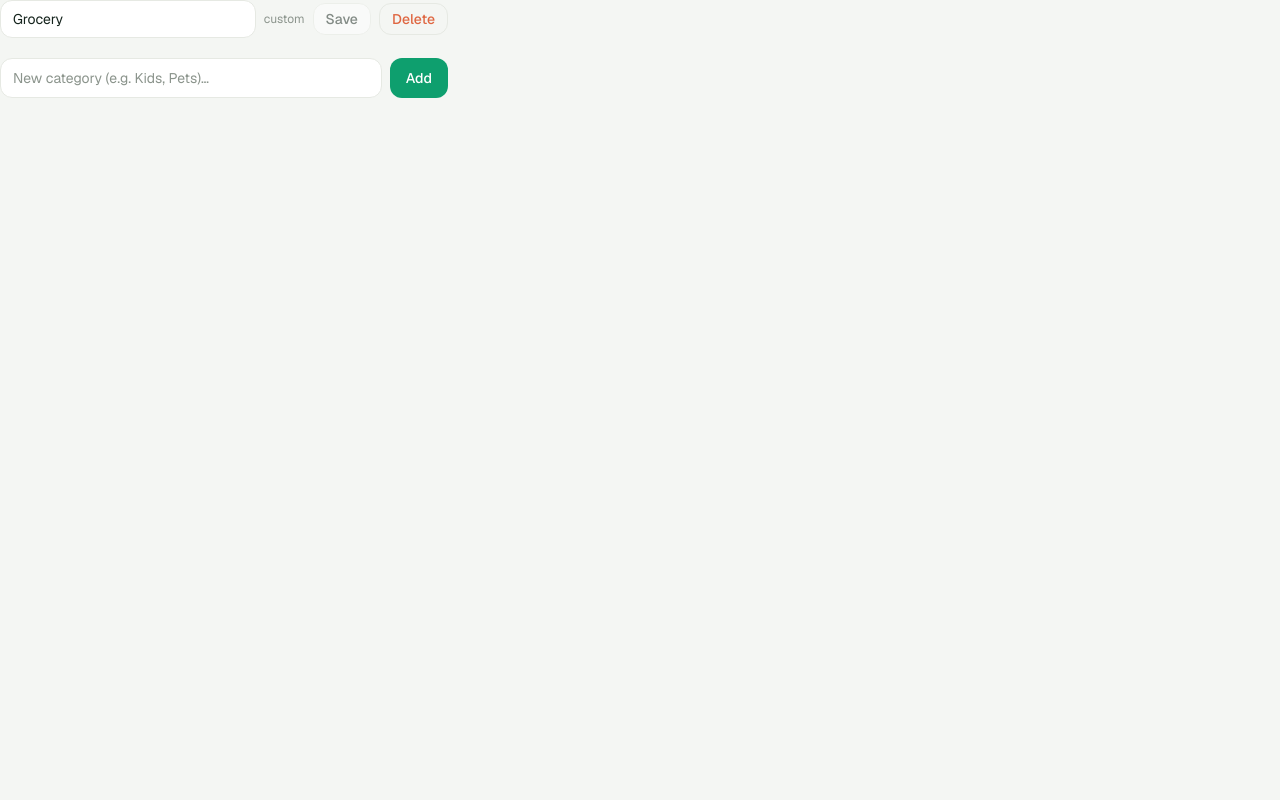
Test: CategoryManager delete dialog › names the rules a delete removes
This screenshot has width=1280, height=800.
Click the button "Delete".
click(413, 19)  # box [379, 3, 448, 35]
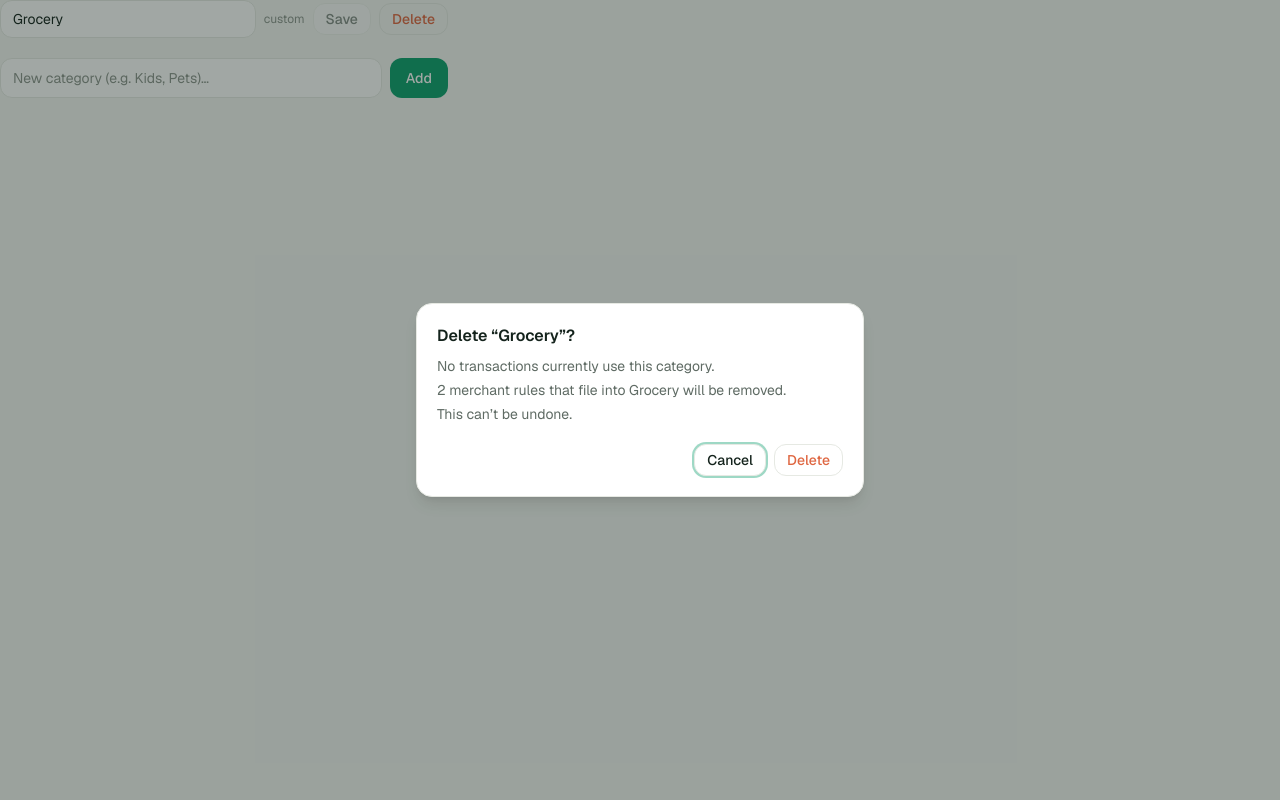
Check: the text "2 merchant rules that file into Grocery will be removed." is shown, box [437, 380, 843, 400]
